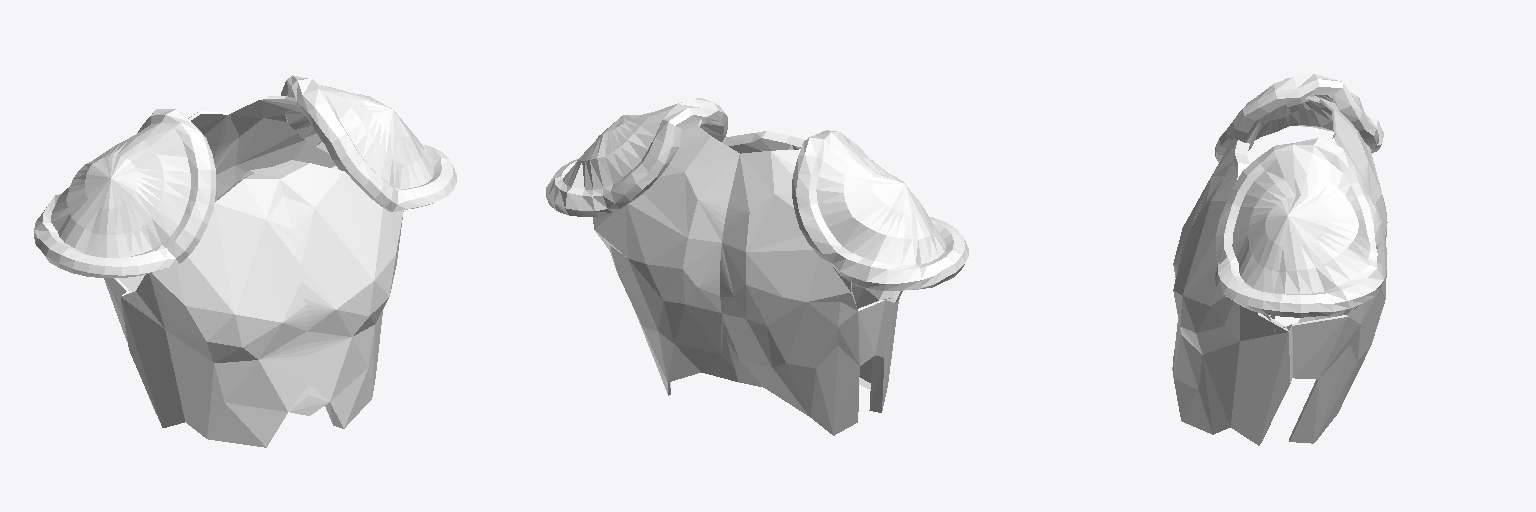
File: sg-armor.obj
3 views of the same model, side by side, from view 1: azimuth 30°, elevation 25°; view 2: azimuth 150°, elevation 25°; view 3: azimuth 270°, elevation 25° (orthographic).
Visible parts, largest first — view 1: Symmetry; view 2: Symmetry; view 3: Symmetry.
Boxes of the visible parts, x1=… form: Symmetry: x1=34, y1=75, x2=456, y2=447; Symmetry: x1=546, y1=98, x2=968, y2=435; Symmetry: x1=1172, y1=74, x2=1387, y2=445.
Bounding box in the file's own units: 193 × 136 × 90.12.